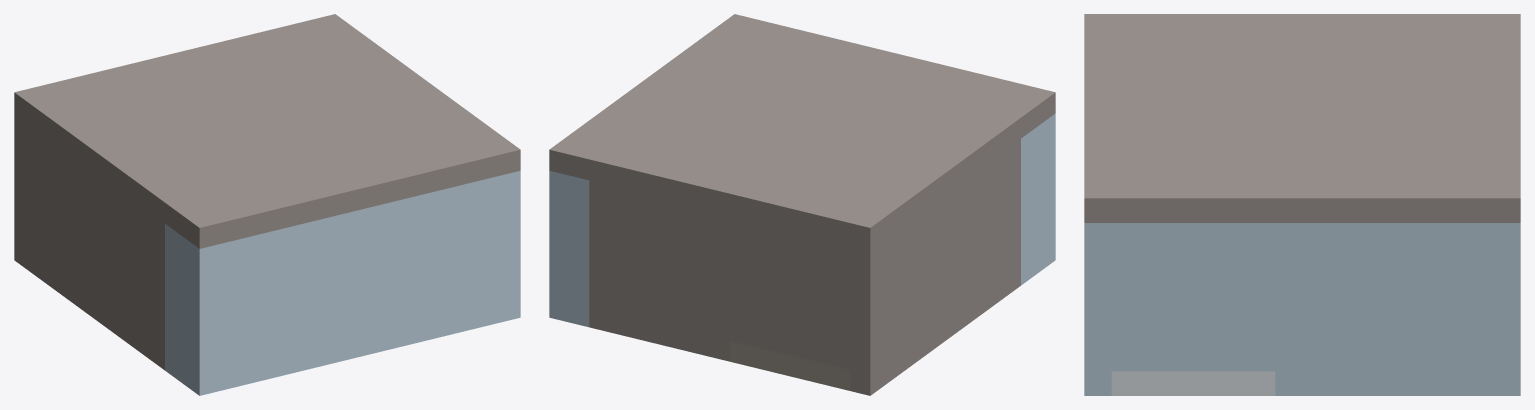
Rendered from ice-gate-bend.glb.
3 renders of one model, left to right at view 1: azimuth 30°, elevation 25°; view 2: azimuth 150°, elevation 25°; view 3: azimuth 270°, elevation 25°, orthographic. The views are drawn at different scales.
Parts seen in each view (by area): view 1: rock_7, ice-rock_10, rock_1, ice-rock_9, ice-rock_7, ice-rock_8, ice-rock_6; view 2: rock_7, rock_1, rock_2, plug_north, ice-rock_1, ice-rock_9, cave-floor_1; view 3: rock_7, ice-rock_1, plug_ice_east, ice-rock_5, ice-rock_10, snow_6.
Part boxes in pixels (x1,y1,x2,y2): rock_7: [14, 14, 520, 248]; ice-rock_10: [340, 170, 520, 361]; rock_1: [14, 113, 164, 370]; ice-rock_9: [165, 224, 239, 395]; ice-rock_7: [239, 229, 279, 385]; ice-rock_8: [300, 215, 339, 371]; ice-rock_6: [280, 224, 299, 376]; rock_7: [549, 14, 1055, 248]; rock_1: [850, 139, 1020, 395]; rock_2: [589, 180, 729, 361]; plug_north: [730, 215, 850, 369]; ice-rock_1: [549, 170, 589, 327]; ice-rock_9: [1021, 113, 1055, 285]; cave-floor_1: [730, 341, 850, 390]; rock_7: [1084, 14, 1520, 222]; ice-rock_1: [1329, 223, 1520, 395]; plug_ice_east: [1111, 223, 1275, 371]; ice-rock_5: [1275, 223, 1329, 395]; ice-rock_10: [1084, 223, 1111, 395]; snow_6: [1111, 371, 1275, 395].
Bounding box in the file's own units: 8 × 4 × 8.
